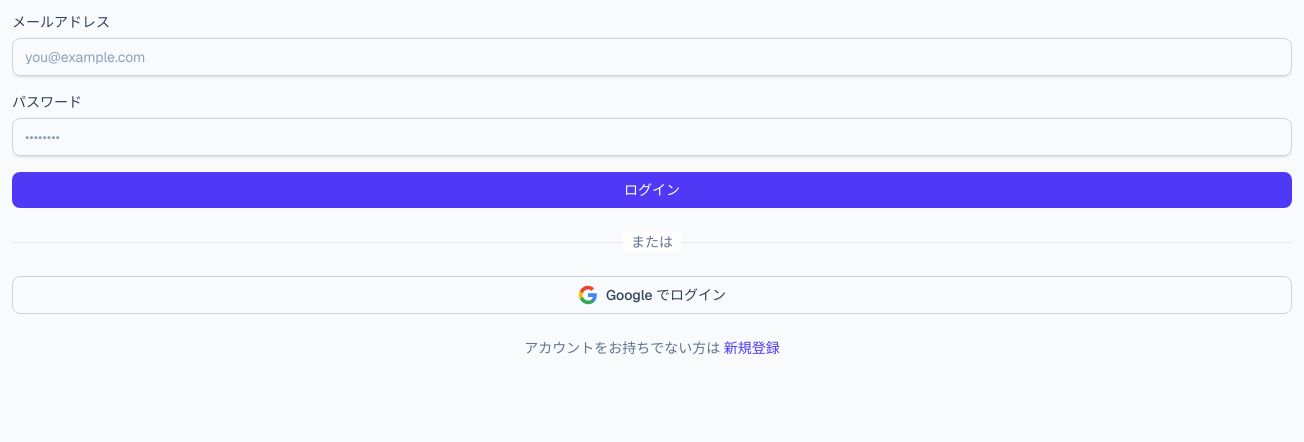
Test case: LoginForm › shows error message when email already in use
Click the button "新規登録": [752, 348] box [724,338,780,358]
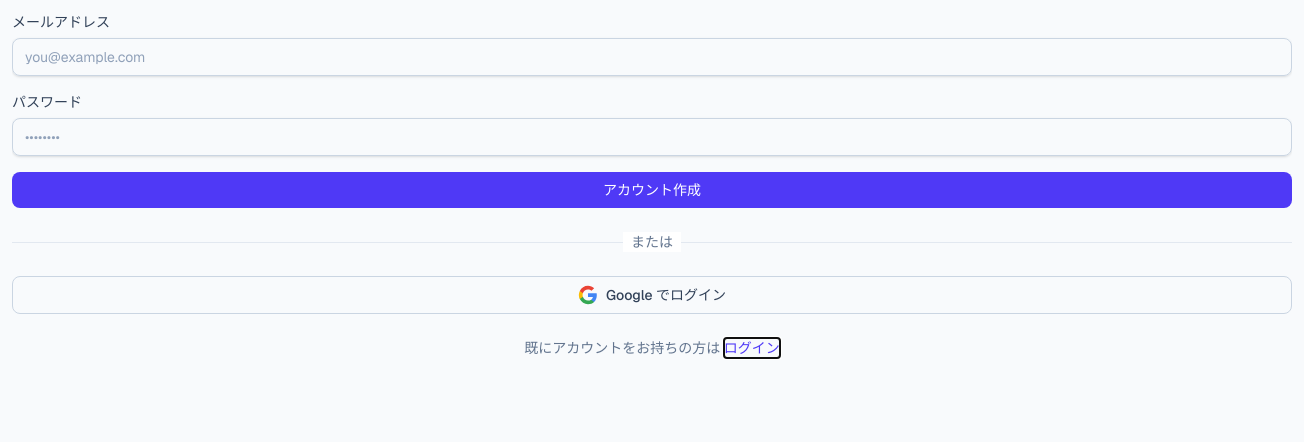
In the field labelled "メールアドレス": [652, 57] box [12,38,1292,76], type "existing@example.com"
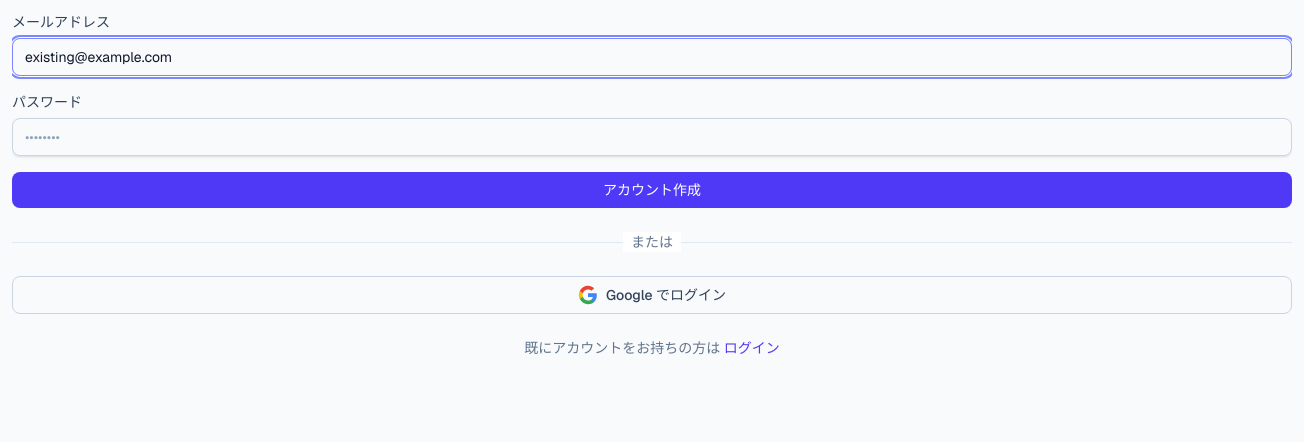
In the password field labelled "パスワード": [652, 137] box [12,118,1292,156], type "password123"
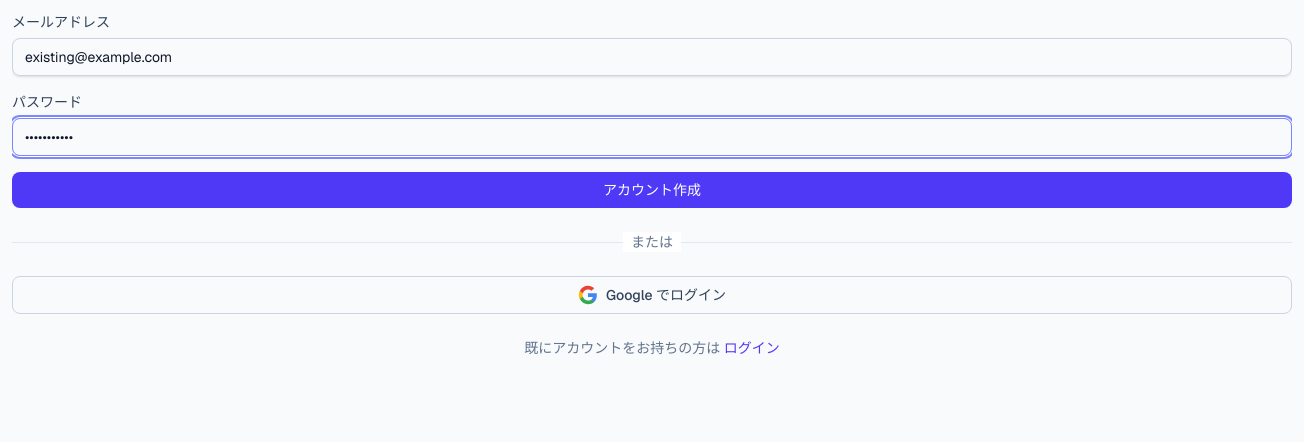
Click the button "アカウント作成": [652, 190] box [12,172,1292,208]
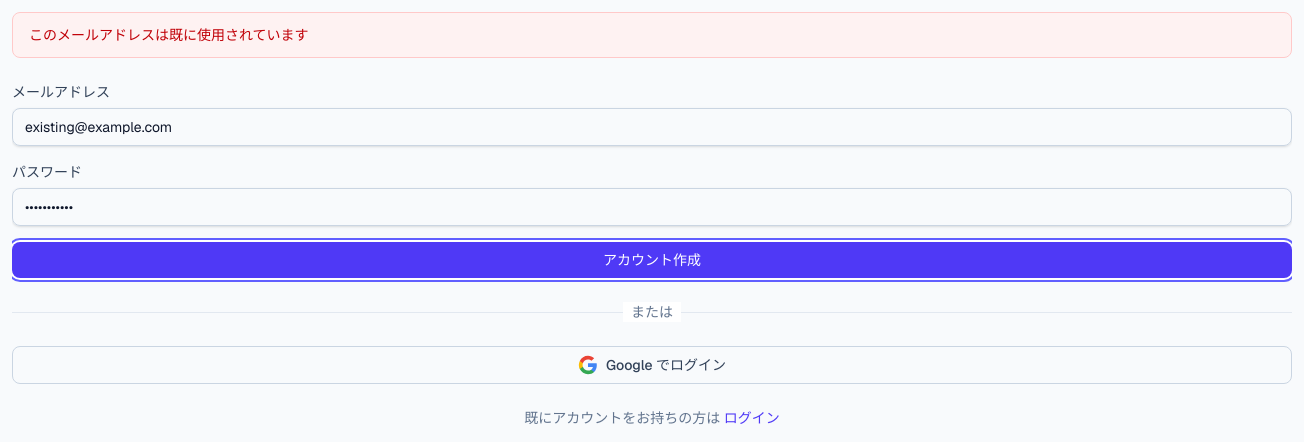
Expected: the text "このメールアドレスは既に使用されています" is shown, [12,12,1292,58]
